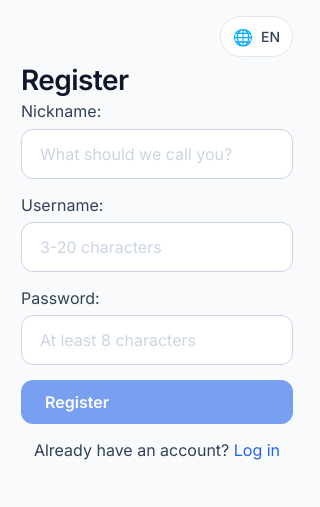
Test case: RegisterPage › username format validation › shows error for username shorter than 3 characters
The image size is (320, 507).
In the field labelled "Username:": (157, 247) [21,222,293,272], type "ab"
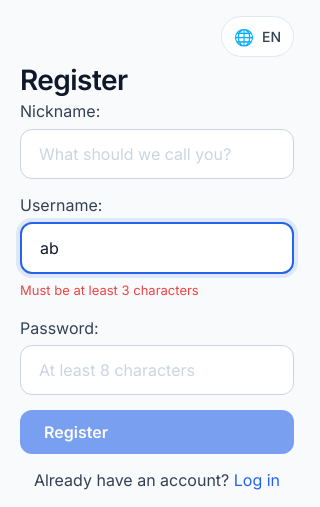
Expected: the text "Must be at least 3 characters" is shown, [20,282,199,298]
